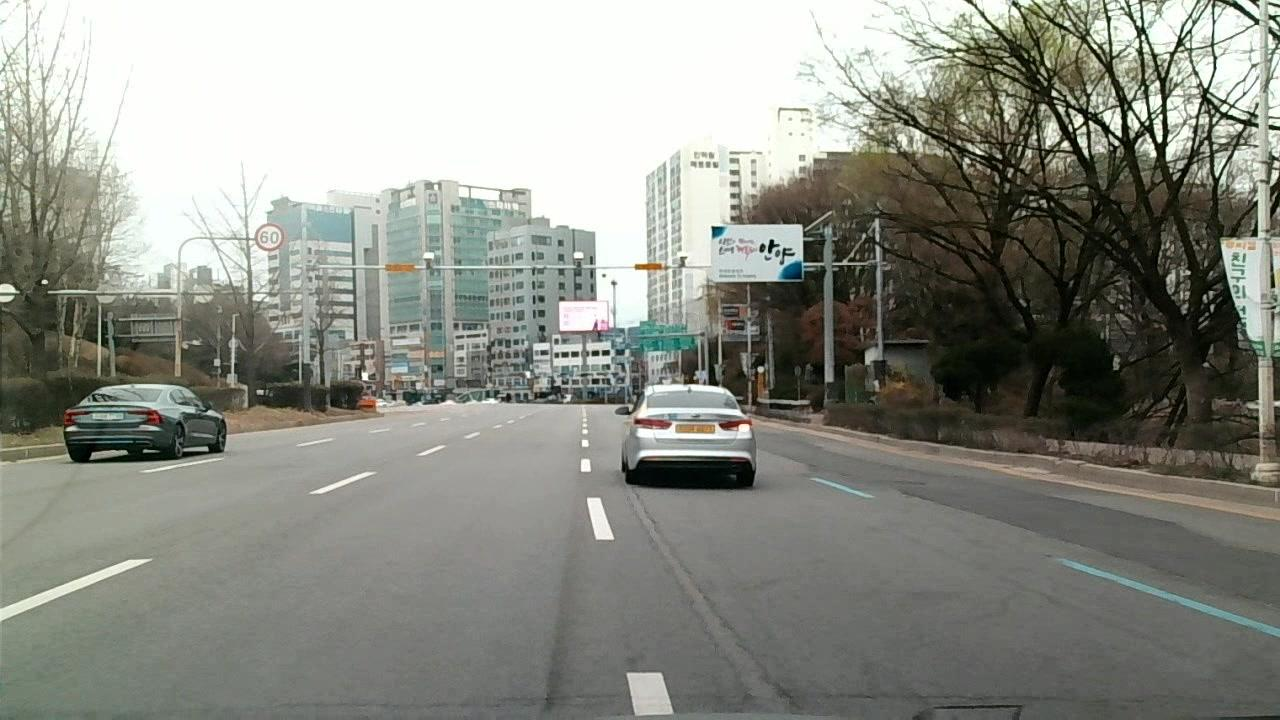hcrack: (249, 693, 614, 716), (818, 687, 1150, 705)
vcrack: (729, 638, 807, 720), (666, 552, 722, 634), (624, 482, 667, 551), (902, 490, 973, 514), (1046, 536, 1116, 557), (981, 514, 1033, 532), (1146, 564, 1185, 579)
